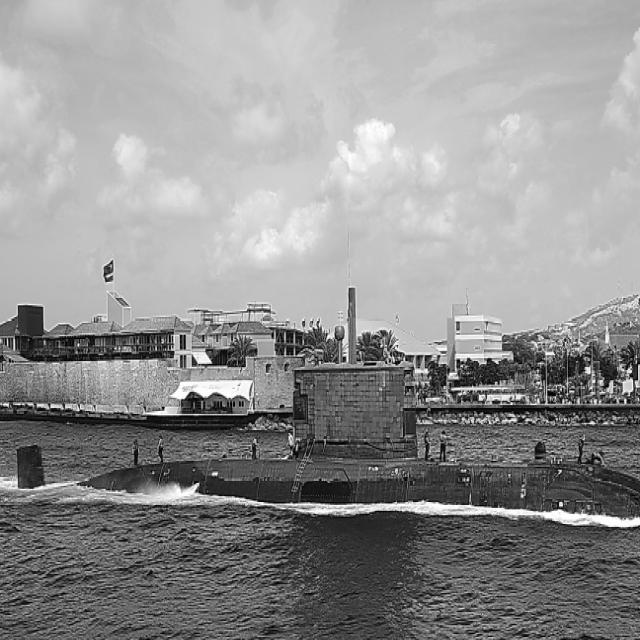submarine: (19, 287, 640, 527)
